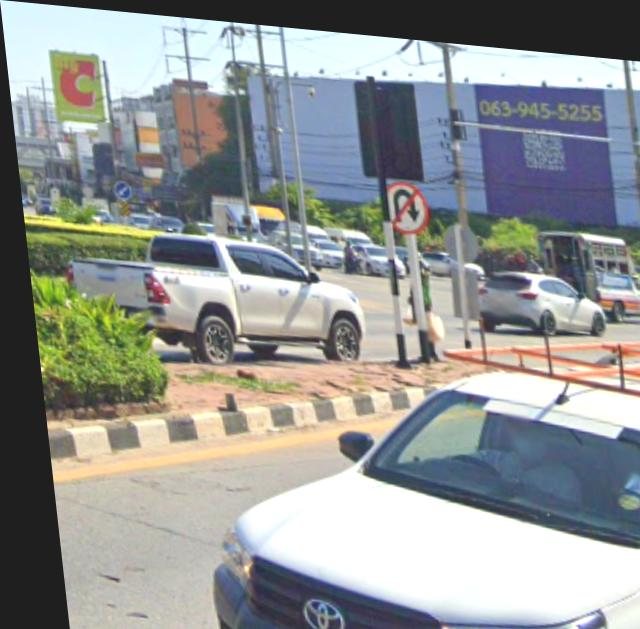not_u_turn_right: (382, 171, 430, 230)
